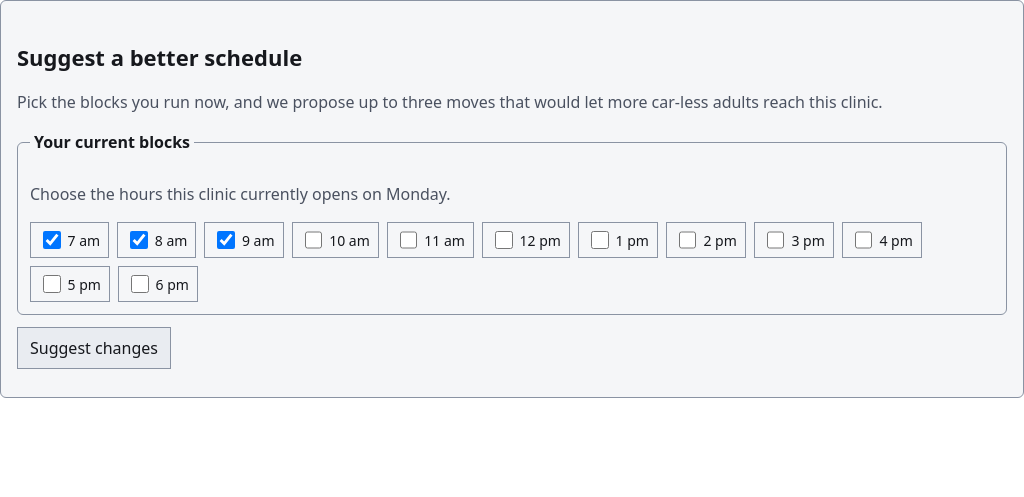
Scenario: SuggestPanel › empty changes list shows the empty state
Click the button "Suggest changes": [94, 348] box [17,327,171,369]
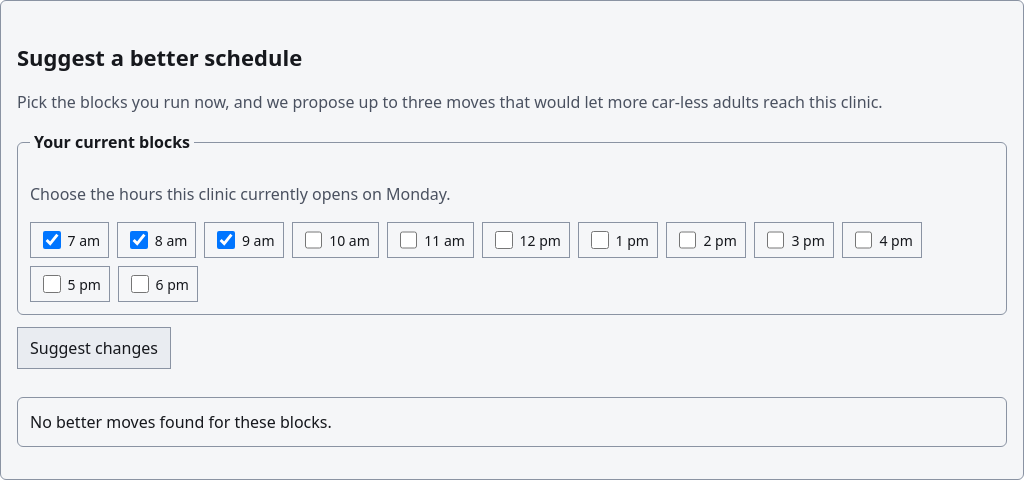
Result: the text "No better moves found for these blocks." is shown at [17,397,1007,447]
